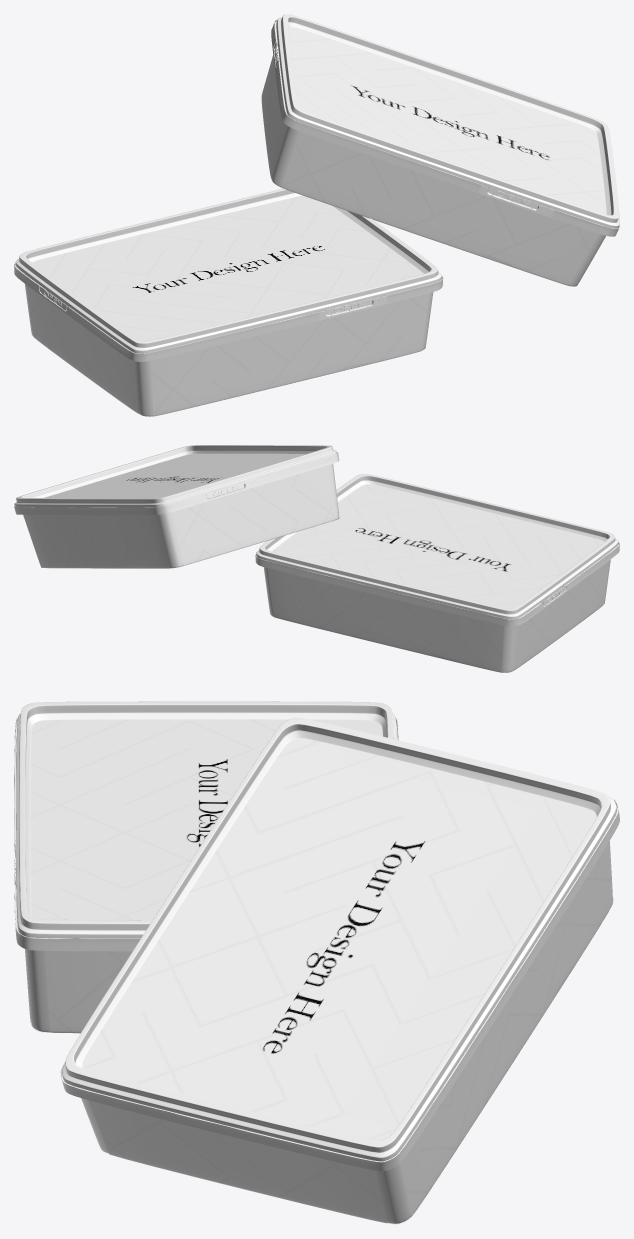
Rendered from TE Angle-3 .glb.
3 renders of one model, top to bottom at view 1: azimuth 30°, elevation 25°; view 2: azimuth 150°, elevation 25°; view 3: azimuth 270°, elevation 25°, orthographic. The views are drawn at different scales.
Visible parts, largest first — view 1: wrapper.002, wrapper.001, lid.002, lid.001, Plane.024, Plane.001, Bottom.002, Bottom.001; view 2: wrapper.002, wrapper.001, lid.002, lid.001, Plane.024, Plane.001, Bottom.001, Bottom.002; view 3: wrapper.001, wrapper.002, lid.001, lid.002, Plane.001, Plane.024, Bottom.001, Bottom.002.
Part boxes in pixels (<box>): wrapper.002: <box>26,195,428,416</box>; wrapper.001: <box>261,27,606,286</box>; lid.002: <box>15,188,441,353</box>; lid.001: <box>276,14,619,228</box>; Plane.024: <box>14,263,443,361</box>; Plane.001: <box>271,19,619,236</box>; Bottom.002: <box>25,284,433,416</box>; Bottom.001: <box>271,126,605,286</box>; wrapper.002: <box>267,484,609,672</box>; wrapper.001: <box>23,453,339,568</box>; lid.002: <box>256,474,618,619</box>; lid.001: <box>14,445,336,507</box>; Plane.024: <box>255,542,619,626</box>; Plane.001: <box>14,452,339,515</box>; Bottom.001: <box>23,463,339,568</box>; Bottom.002: <box>263,560,610,672</box>; wrapper.001: <box>82,738,613,1224</box>; wrapper.002: <box>25,719,382,1033</box>; lid.001: <box>62,717,616,1161</box>; lid.002: <box>16,701,396,938</box>; Plane.001: <box>60,796,619,1171</box>; Plane.024: <box>14,717,398,951</box>; Bottom.001: <box>81,841,612,1223</box>; Bottom.002: <box>25,949,50,1032</box>.
Size of the model in its own units: 0.3485 by 0.1067 by 0.2058.
3 materials, 1 textured.
